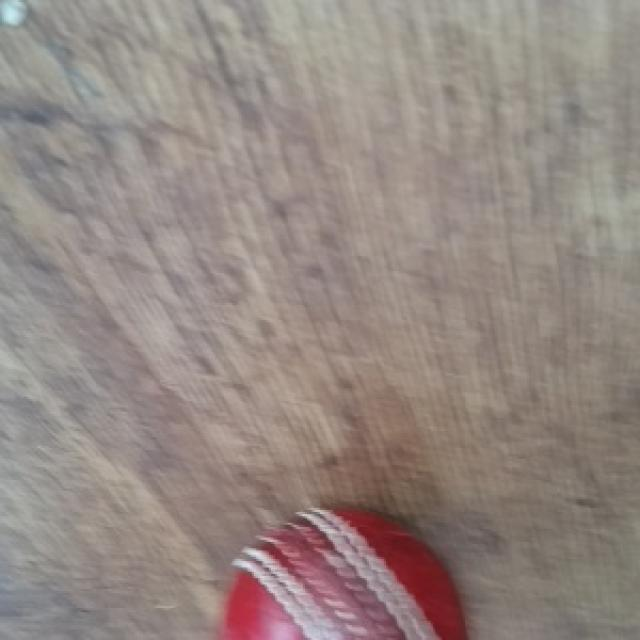ball: (213, 510, 469, 640)
